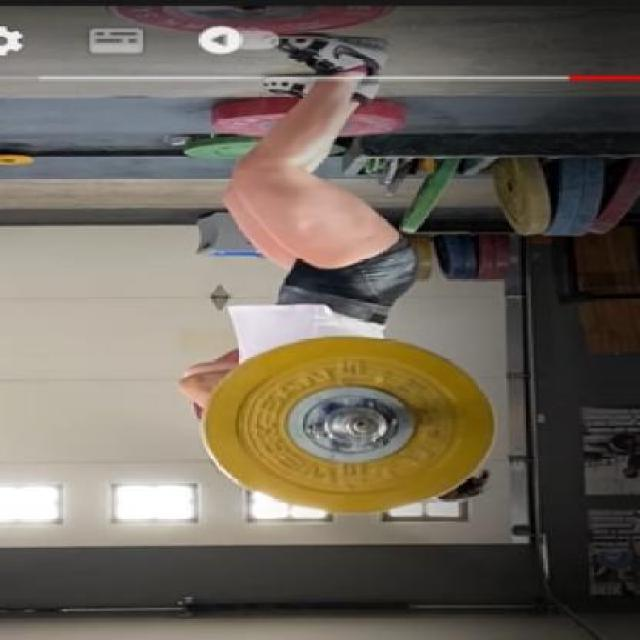Barbell: (342, 413, 386, 439)
